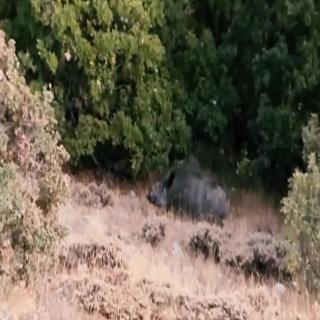Pig: (137, 137, 240, 227)
